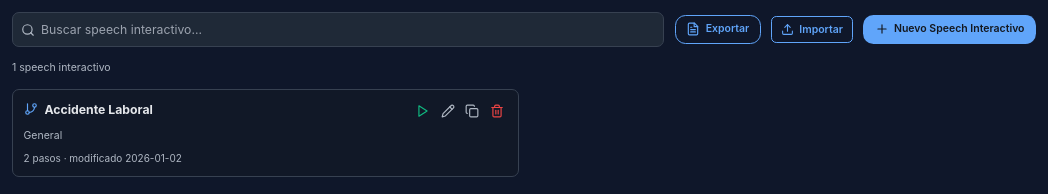
it: InteractivosView (1.9.1 · duplicar speech) › duplica con nombre (copia) sin tocar el original
Click the button named "Duplicar speech interactivo".
click(472, 111)  # box [462, 100, 483, 122]
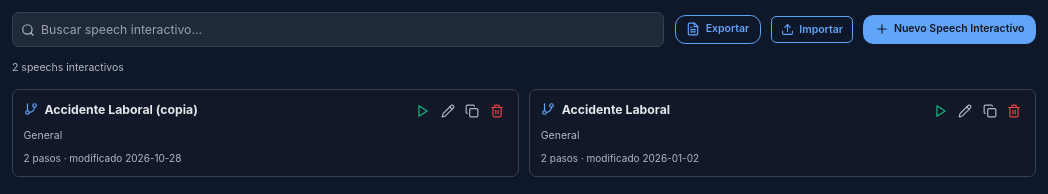
Check: the text "Accidente Laboral" is shown, box [562, 100, 670, 118]
Check: the text "Accidente Laboral (copia)" is shown, box [44, 100, 198, 118]
Check: the text "2 speechs interactivos" is shown, box [12, 61, 124, 74]
